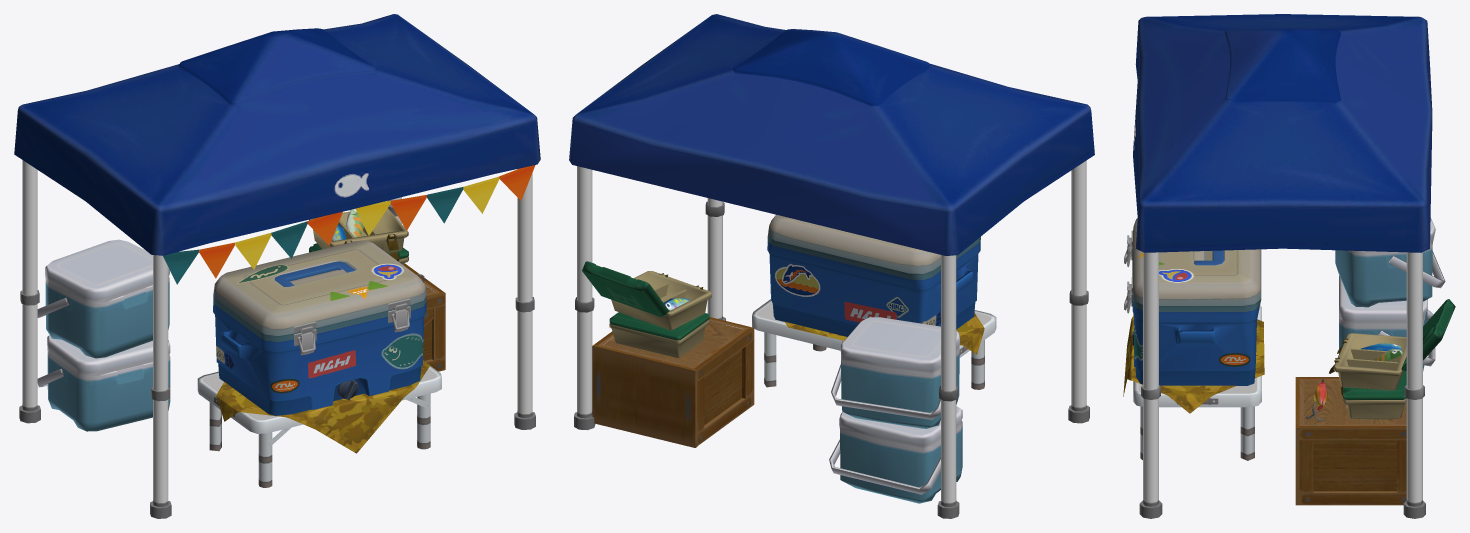
The model's file is EvtobjFishTent.glb.
The picture shows the model from 3 angles, left to right: view 1: azimuth 30°, elevation 25°; view 2: azimuth 150°, elevation 25°; view 3: azimuth 270°, elevation 25°; orthographic projection.
Visible parts, largest first — view 1: PoleA4__mEvtFishTent, X30__mEvtobjFishBox, FtrCoolerbox1__mCoolerbox, pCylinder114_1__mFishTentDeco, Cloth1__mFishTentDeco, angle_low__mTable, pCube18__mFishingGear, FtrToolbox2__mFishingGear; view 2: PoleA4__mEvtFishTent, FtrCoolerbox1__mCoolerbox, X30__mEvtobjFishBox, pCube18__mFishingGear, FtrToolbox2__mFishingGear, angle_low__mTable, Cloth1__mFishTentDeco; view 3: PoleA4__mEvtFishTent, X30__mEvtobjFishBox, pCube18__mFishingGear, FtrCoolerbox1__mCoolerbox, FtrToolbox2__mFishingGear, angle_low__mTable, Cloth1__mFishTentDeco, Hari__mFishingLure.
Boxes of the visible parts, bbox=[...] form: PoleA4__mEvtFishTent: bbox=[14, 14, 540, 518]; X30__mEvtobjFishBox: bbox=[213, 240, 426, 415]; FtrCoolerbox1__mCoolerbox: bbox=[37, 239, 170, 431]; pCylinder114_1__mFishTentDeco: bbox=[163, 165, 535, 284]; Cloth1__mFishTentDeco: bbox=[216, 360, 430, 453]; angle_low__mTable: bbox=[197, 366, 441, 487]; pCube18__mFishingGear: bbox=[338, 220, 445, 371]; FtrToolbox2__mFishingGear: bbox=[309, 201, 408, 265]; PoleA4__mEvtFishTent: bbox=[569, 14, 1094, 518]; FtrCoolerbox1__mCoolerbox: bbox=[829, 317, 962, 503]; X30__mEvtobjFishBox: bbox=[767, 214, 980, 336]; pCube18__mFishingGear: bbox=[592, 283, 754, 447]; FtrToolbox2__mFishingGear: bbox=[582, 261, 711, 358]; angle_low__mTable: bbox=[752, 299, 996, 389]; Cloth1__mFishTentDeco: bbox=[785, 313, 984, 354]; PoleA4__mEvtFishTent: bbox=[1133, 14, 1432, 518]; X30__mEvtobjFishBox: bbox=[1124, 218, 1261, 385]; pCube18__mFishingGear: bbox=[1295, 348, 1406, 505]; FtrCoolerbox1__mCoolerbox: bbox=[1335, 217, 1445, 371]; FtrToolbox2__mFishingGear: bbox=[1329, 299, 1455, 419]; angle_low__mTable: bbox=[1133, 305, 1261, 460]; Cloth1__mFishTentDeco: bbox=[1123, 315, 1264, 413]; Hari__mFishingLure: bbox=[1305, 343, 1402, 420].
Bounding box in the file's own units: 28.22 × 26.79 × 20.67.
8 materials, 7 textured.
